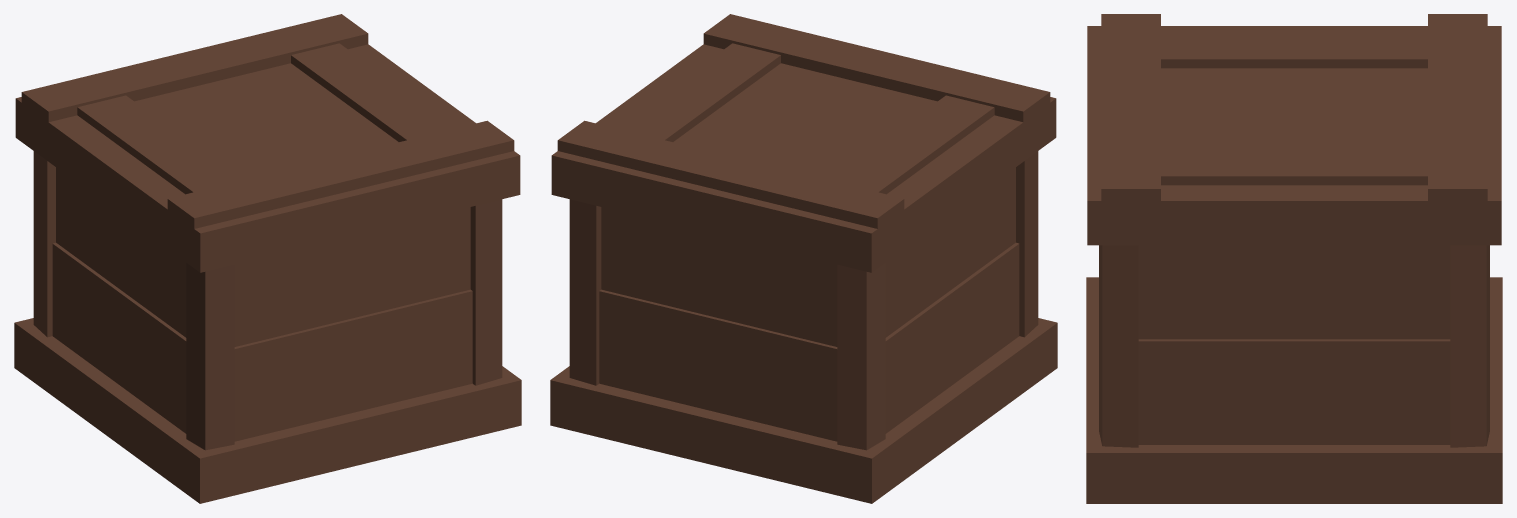
The model's file is woodbox_1.fbx.
3 renders of one model, left to right at view 1: azimuth 30°, elevation 25°; view 2: azimuth 150°, elevation 25°; view 3: azimuth 270°, elevation 25°, orthographic. The views are drawn at different scales.
Visible parts, largest first — view 1: Wood_box_1; view 2: Wood_box_1; view 3: Wood_box_1.
Part boxes in pixels (x1,y1,x2,y2): Wood_box_1: (14,14,521,503); Wood_box_1: (550,14,1057,503); Wood_box_1: (1086,14,1502,503).
Bounding box in the file's own units: 165 × 137 × 165.
